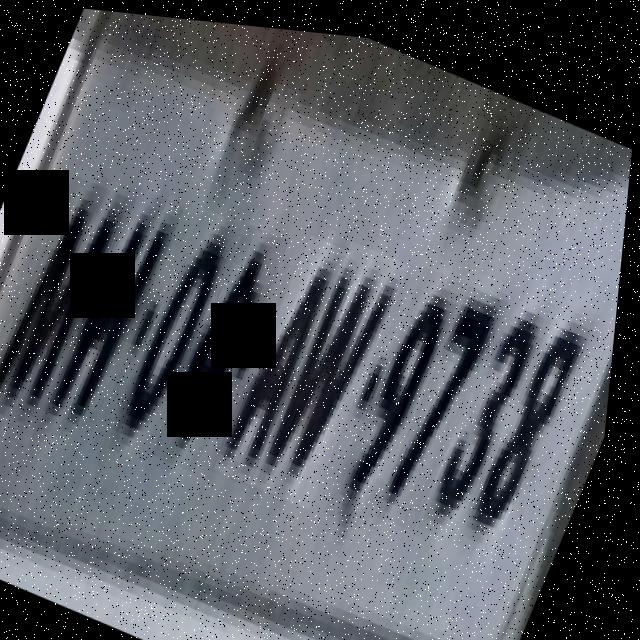0: (107, 198, 246, 456)
3: (430, 286, 557, 532)
4: (158, 211, 294, 473)
7: (381, 268, 514, 529)
8: (473, 281, 612, 542)
9: (331, 250, 472, 528)
A: (221, 221, 356, 486)
H: (44, 177, 190, 451)
M: (0, 167, 135, 433)
W: (258, 226, 415, 508)
